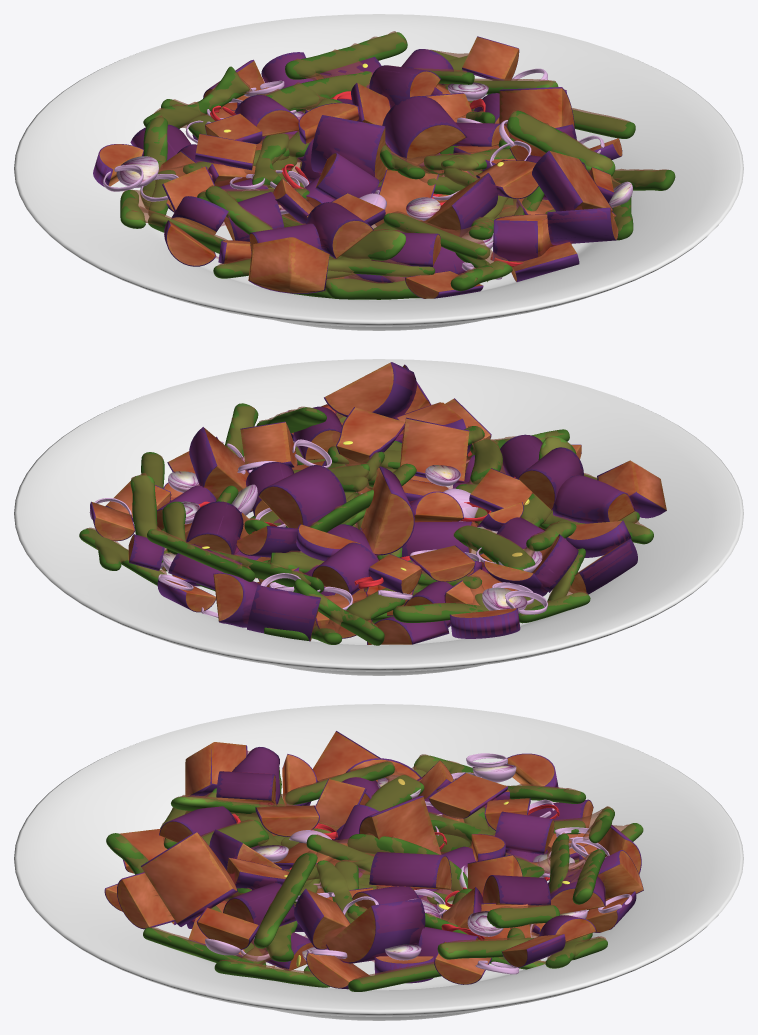
The model's file is Sambal Raja.fbx.
The picture shows the model from 3 angles, top to bottom: view 1: azimuth 30°, elevation 25°; view 2: azimuth 150°, elevation 25°; view 3: azimuth 270°, elevation 25°; orthographic projection.
Visible parts, largest first — view 1: Piring, Terong, Minyak Terong, Kacang Panjang, Minyak Kacang Panjang, Bawang 2, Bawang 1, Cabe; view 2: Piring, Terong, Minyak Terong, Kacang Panjang, Minyak Kacang Panjang, Bawang 2, Bawang 1, Cabe; view 3: Piring, Terong, Minyak Terong, Kacang Panjang, Minyak Kacang Panjang, Bawang 2, Bawang 1, Cabe.
Part boxes in pixels (bbox=[...]): Piring: bbox=[14, 14, 743, 330]; Terong: bbox=[93, 36, 622, 298]; Minyak Terong: bbox=[94, 39, 621, 296]; Kacang Panjang: bbox=[120, 32, 675, 299]; Minyak Kacang Panjang: bbox=[121, 31, 668, 292]; Bawang 2: bbox=[116, 82, 632, 248]; Bawang 1: bbox=[103, 68, 604, 279]; Cabe: bbox=[210, 91, 523, 266]; Piring: bbox=[14, 359, 743, 675]; Terong: bbox=[90, 362, 666, 644]; Minyak Terong: bbox=[91, 365, 664, 642]; Kacang Panjang: bbox=[79, 403, 653, 645]; Minyak Kacang Panjang: bbox=[82, 406, 650, 634]; Bawang 2: bbox=[162, 410, 542, 613]; Bawang 1: bbox=[89, 439, 566, 617]; Cabe: bbox=[184, 451, 515, 588]; Piring: bbox=[14, 704, 743, 1020]; Terong: bbox=[104, 731, 643, 989]; Minyak Terong: bbox=[109, 734, 641, 986]; Kacang Panjang: bbox=[106, 755, 643, 991]; Minyak Kacang Panjang: bbox=[114, 754, 636, 983]; Bawang 2: bbox=[205, 764, 587, 960]; Bawang 1: bbox=[240, 753, 632, 974]; Cabe: bbox=[232, 804, 559, 940].
Bounding box in the file's own units: 279 × 56.5 × 279.
